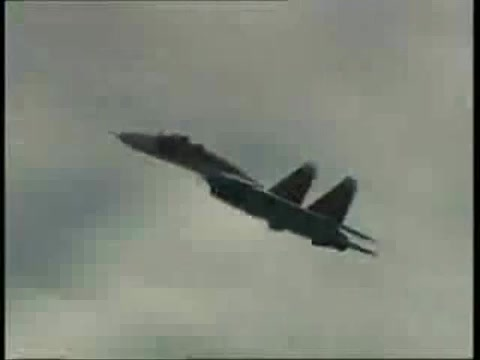aeroplane: (108, 127, 378, 257)
